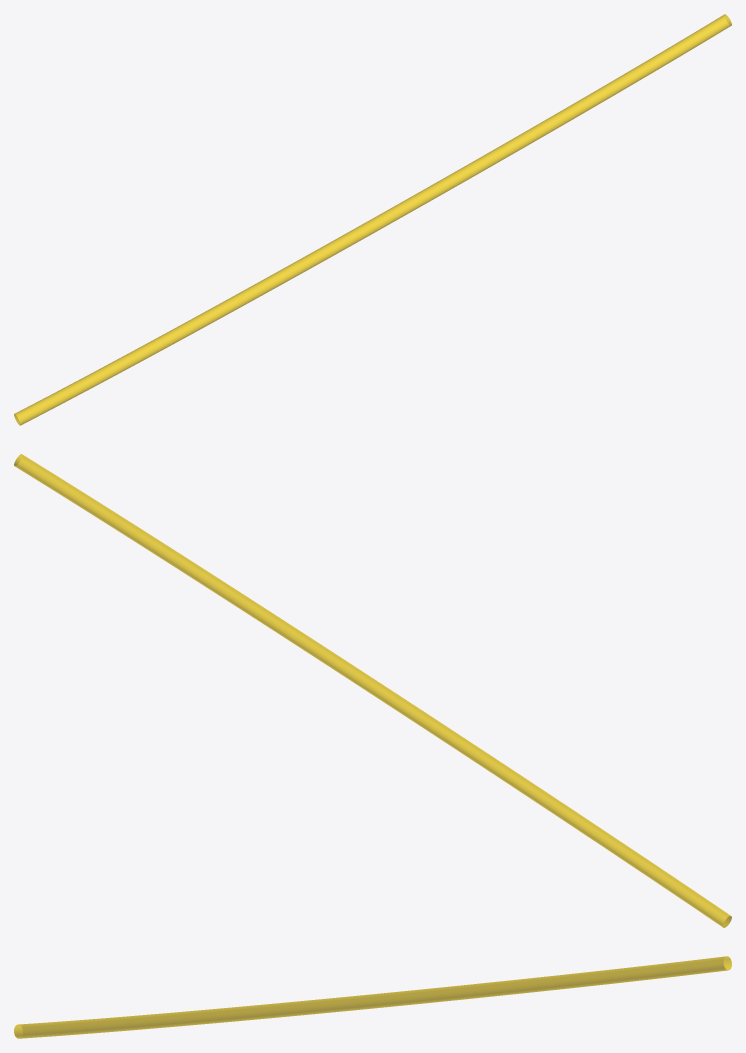
The model's file is Event_17758602_track_129.fbx.
The picture shows the model from 3 angles, top to bottom: view 1: azimuth 30°, elevation 25°; view 2: azimuth 150°, elevation 25°; view 3: azimuth 330°, elevation 25°; orthographic projection. The views are drawn at different scales.
Parts seen in each view (by area): view 1: Model; view 2: Model; view 3: Model.
Part boxes in pixels (bbox=[...]): Model: bbox=[14, 14, 731, 425]; Model: bbox=[14, 454, 731, 927]; Model: bbox=[14, 956, 731, 1038].
Bounding box in the file's own units: 2.38 × 0.8562 × 0.1757.
